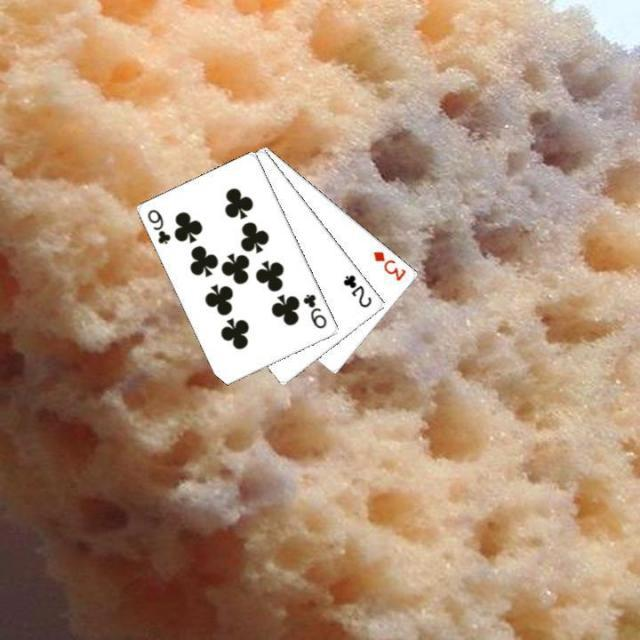2C: (340, 271, 374, 309)
3D: (370, 247, 409, 283)
9C: (299, 290, 329, 331), (144, 206, 172, 247)
